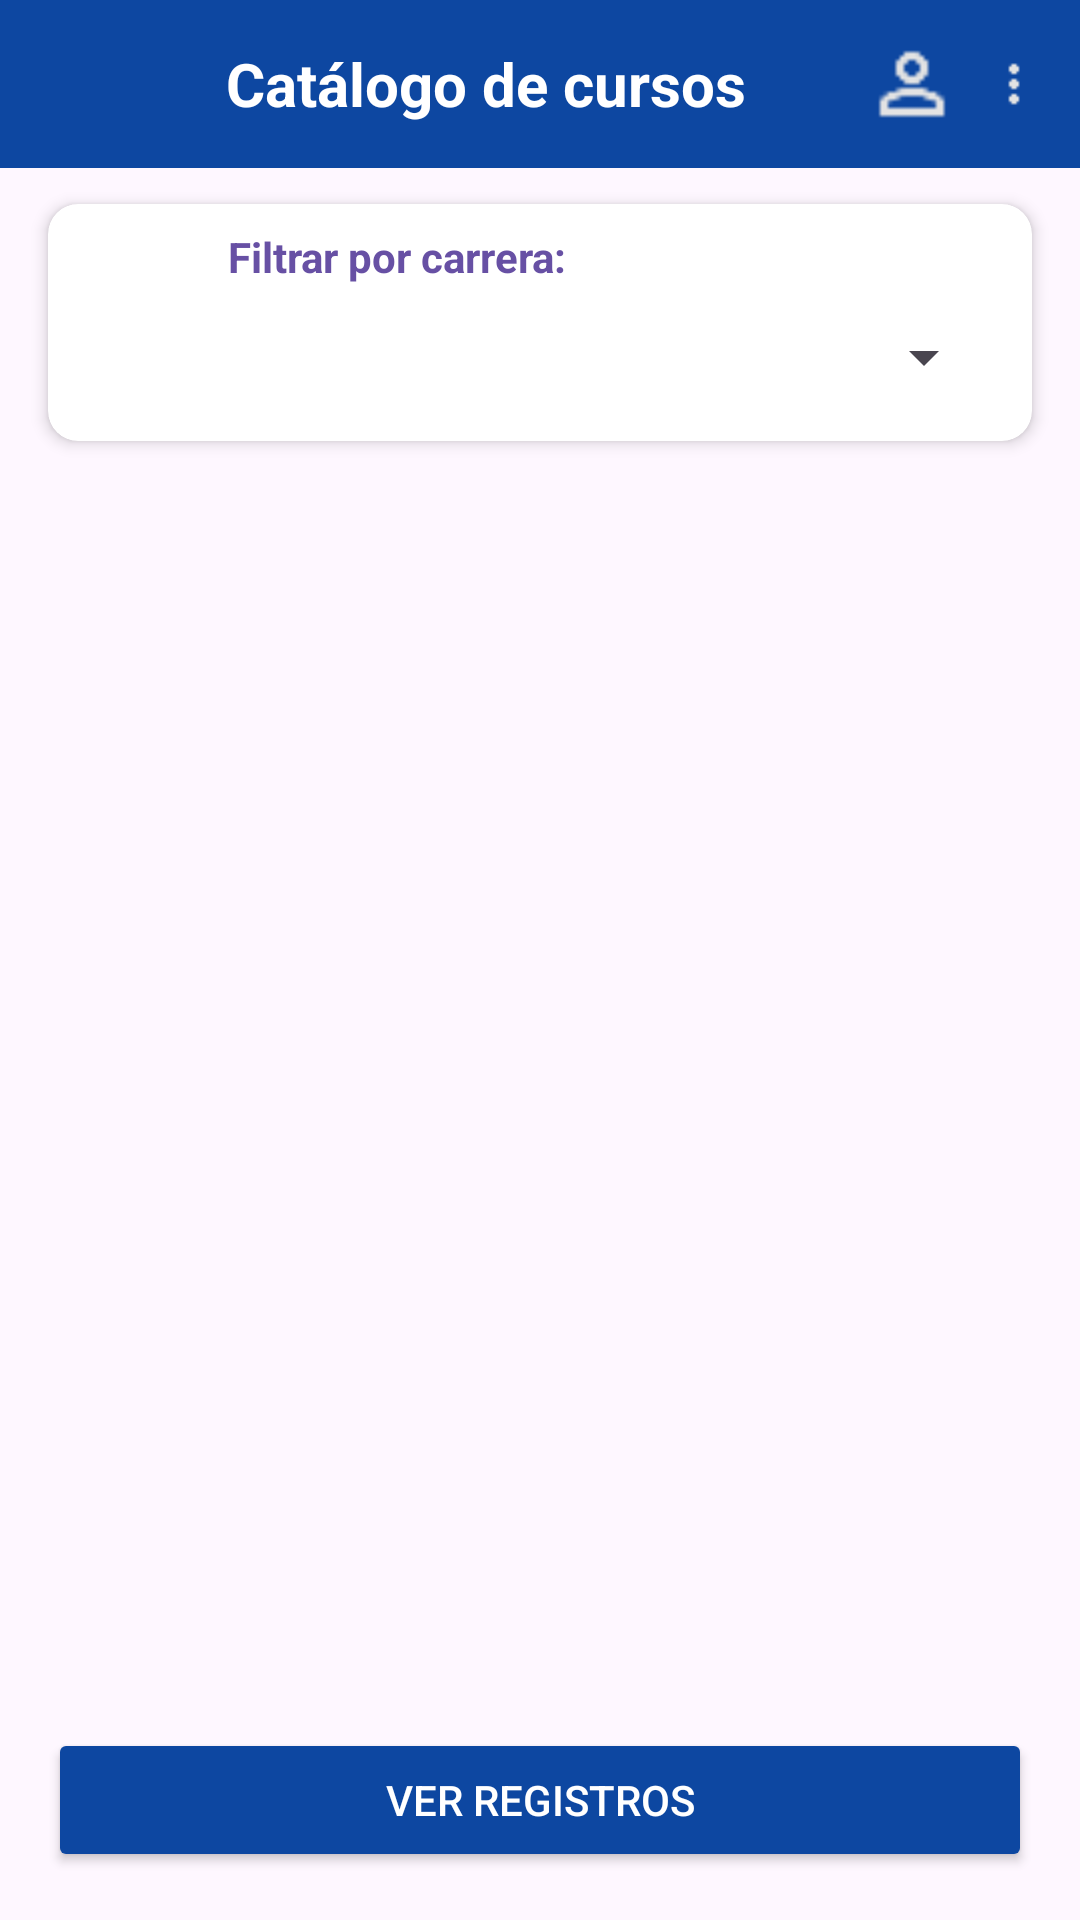

Named icons in this screenshot (1080×1920) and their centers, (x=x, y=y):
mas: (x=1014, y=84)
perfil: (x=912, y=84)
